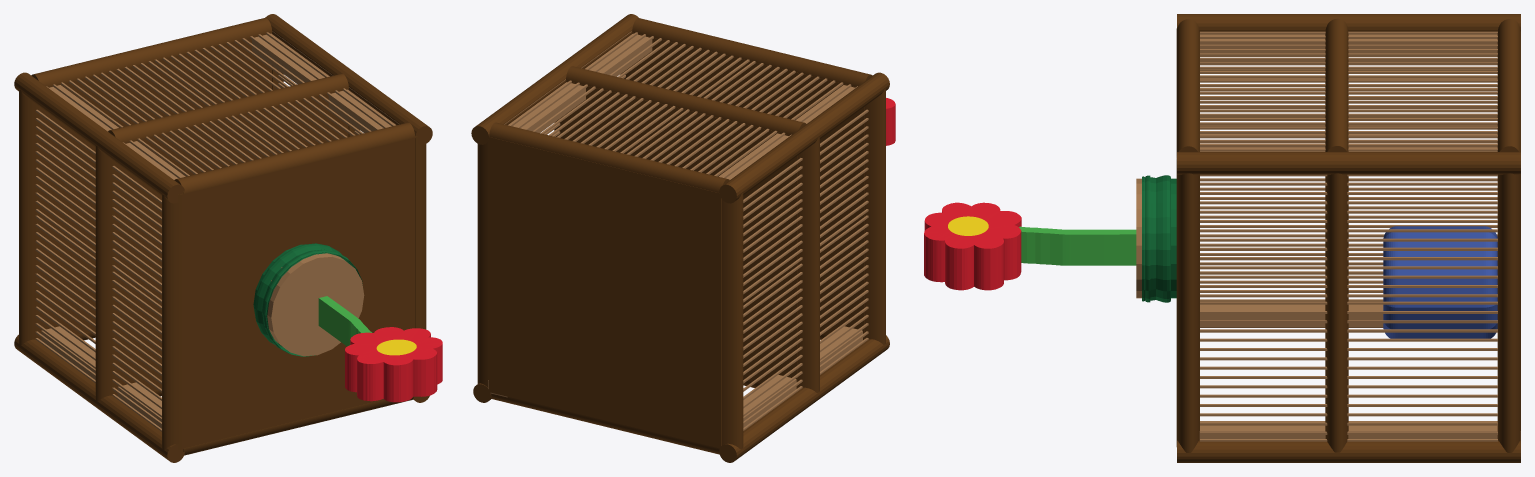
Rendered from tinker.obj.
3 renders of one model, left to right at view 1: azimuth 30°, elevation 25°; view 2: azimuth 150°, elevation 25°; view 3: azimuth 270°, elevation 25°, orthographic. The views are drawn at different scales.
Parts seen in each view (by area): view 1: group_0_6306067, group_0_11107152, group_0_15277357, group_0_1206582, group_0_4634441, group_0_16768282; view 2: group_0_6306067, group_0_11107152, group_0_15277357; view 3: group_0_11107152, group_0_6306067, group_0_3888547, group_0_15277357, group_0_1206582, group_0_4634441, group_0_16768282.
Boxes of the visible parts, box(x1,y1,x2,y2) form: group_0_6306067: box(14, 14, 432, 462); group_0_11107152: box(35, 31, 399, 431); group_0_15277357: box(345, 327, 442, 402); group_0_1206582: box(253, 243, 362, 356); group_0_4634441: box(318, 296, 371, 346); group_0_16768282: box(376, 339, 416, 355); group_0_6306067: box(471, 14, 889, 462); group_0_11107152: box(488, 31, 868, 430); group_0_15277357: box(886, 98, 895, 145); group_0_11107152: box(1136, 31, 1520, 441); group_0_6306067: box(1176, 14, 1520, 462); group_0_3888547: box(1383, 226, 1497, 338); group_0_15277357: box(924, 202, 1021, 290); group_0_1206582: box(1142, 175, 1176, 302); group_0_4634441: box(1019, 226, 1136, 265); group_0_16768282: box(948, 216, 988, 235).
Size of the model in its own units: 60 by 60 by 104.
